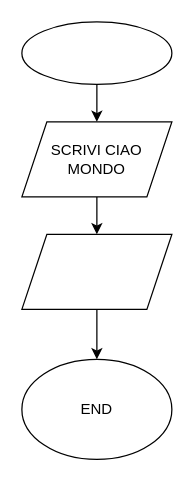
Some shapes in this 194 by 481 pixel diagram are drawn without their labels. Here are the shapes that lost their labels. From the top down, the centre of each, then its label:
(x=96, y=52): START
(x=96, y=271): "CIAO MONDO"
